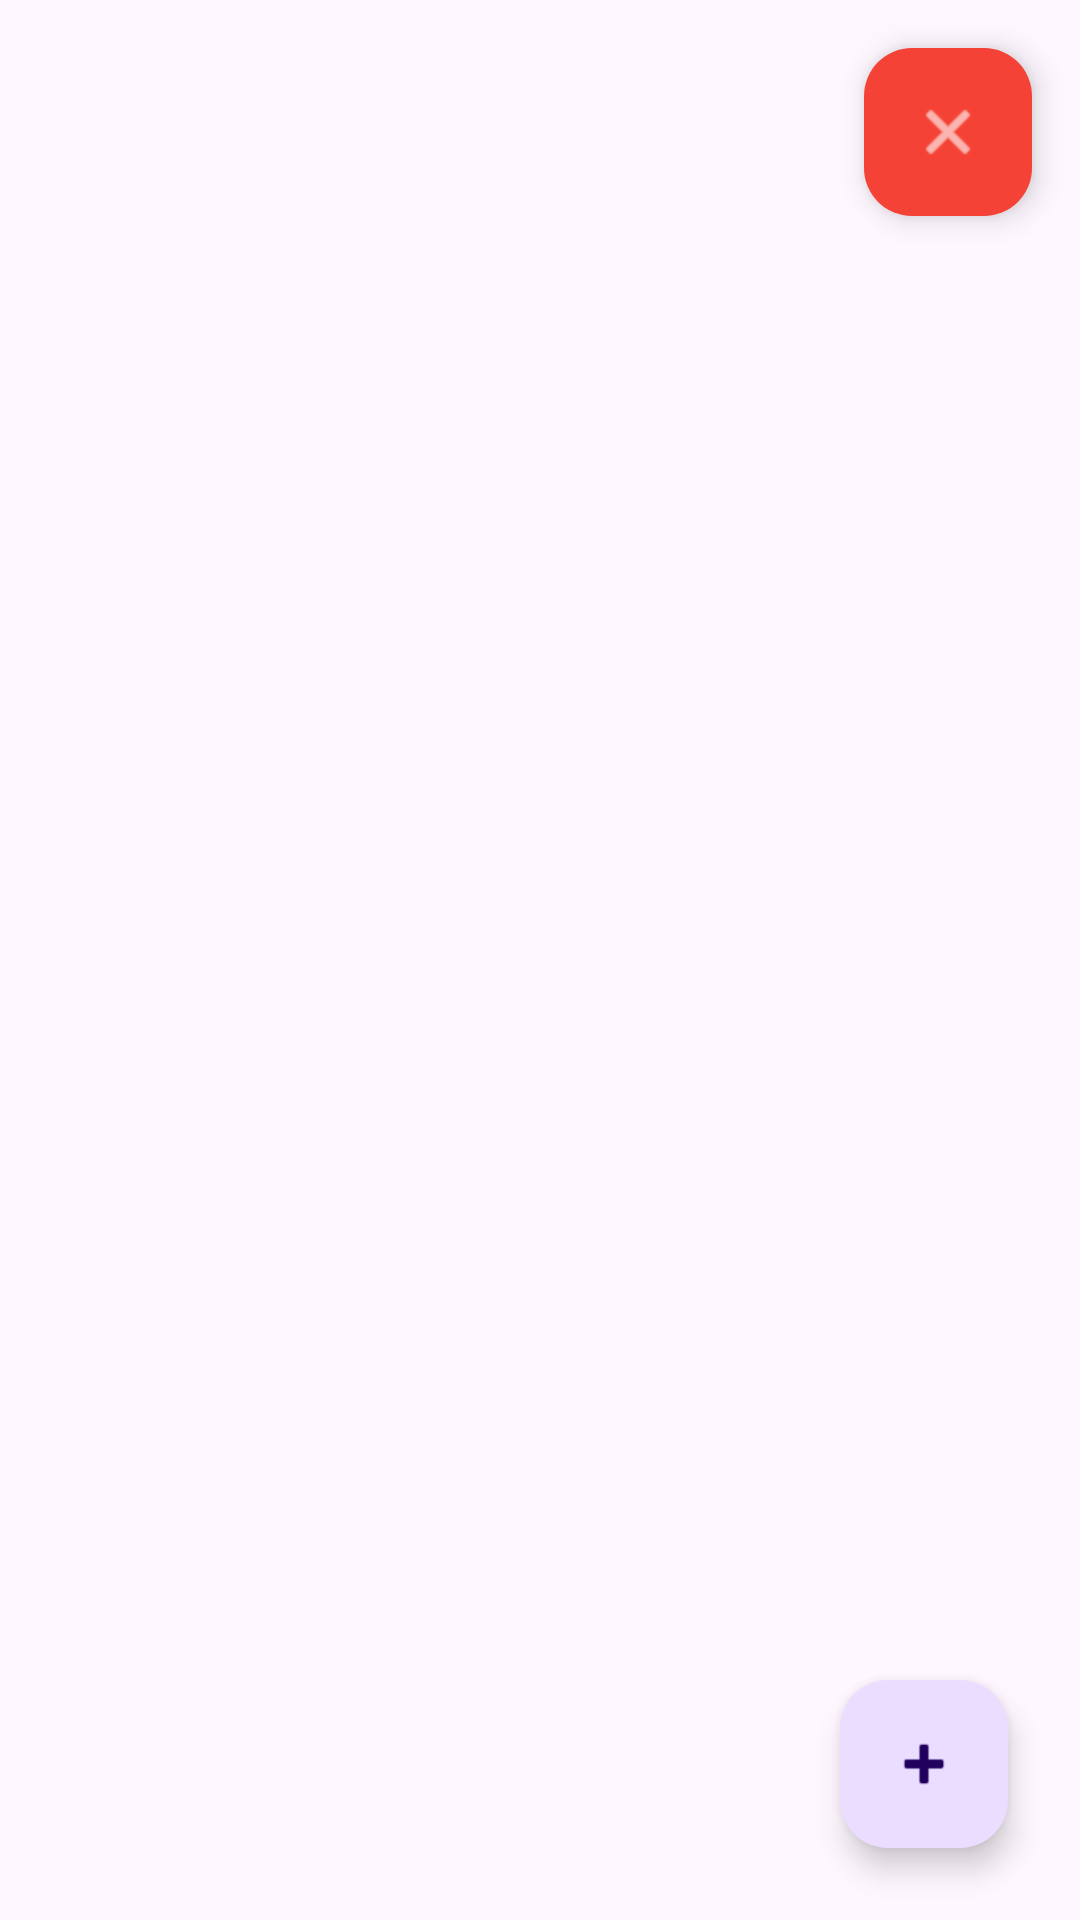

Screen size 1080*1920. Icon name, then its box in pixels as (x1, y1, x2, y2):
Agregar nueva planta: (840, 1680, 1008, 1848)
